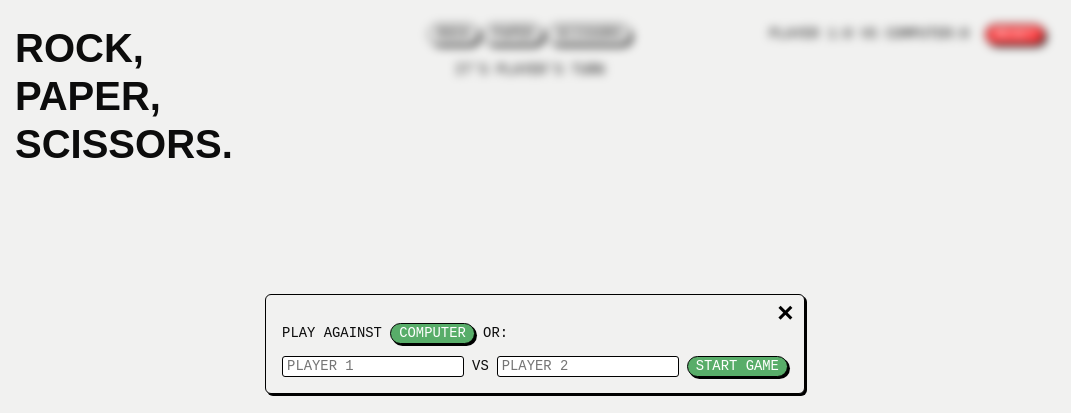
Test case: Game tests › Game scenario player vs player result in win
This screenshot has width=1071, height=413.
Type "Hej" into the field with placeholder "PLAYER 1" at (373, 367), box [282,356,464,377]
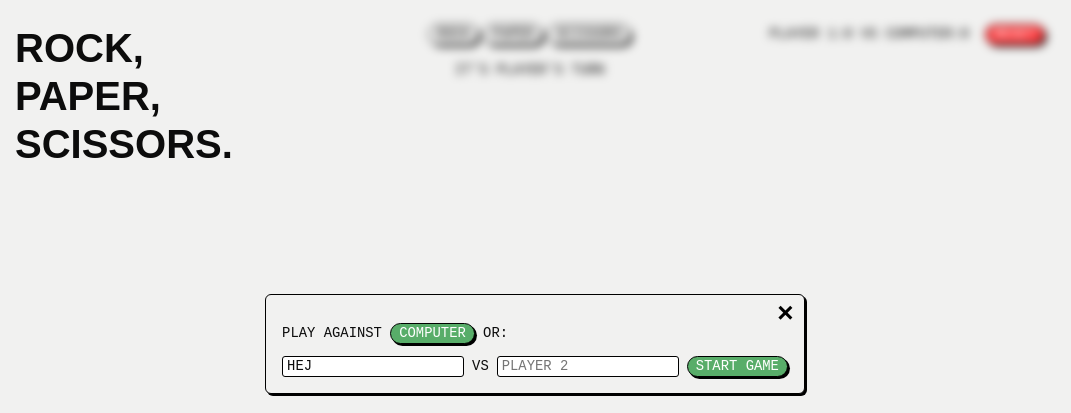
Type "Hej2" into the field with placeholder "PLAYER 2" at (588, 367), box [497,356,679,377]
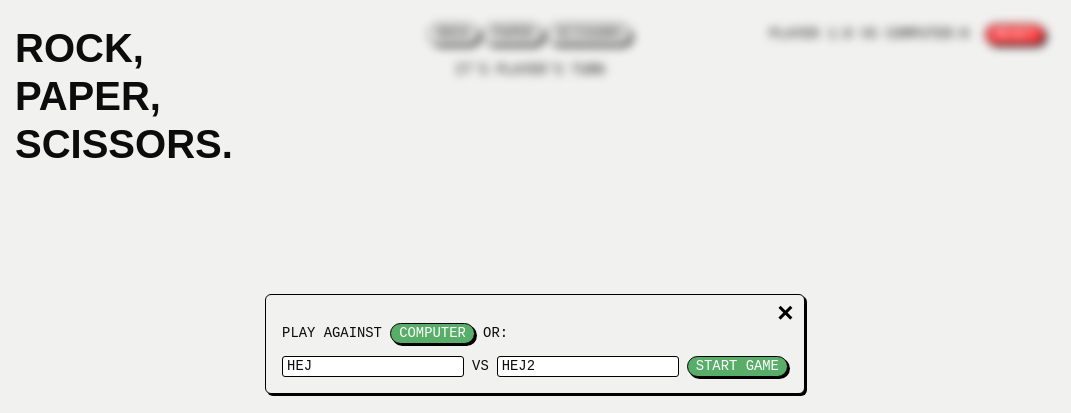
Click the button with test id "startBtn" at (738, 367), box [687,356,788,377]
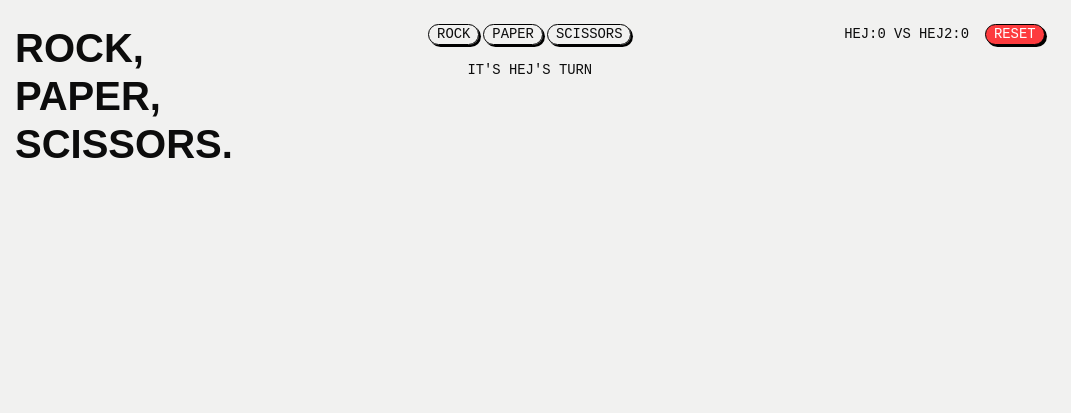
Click the button with test id "rockBtn" at (454, 35), box [428,24,479,45]
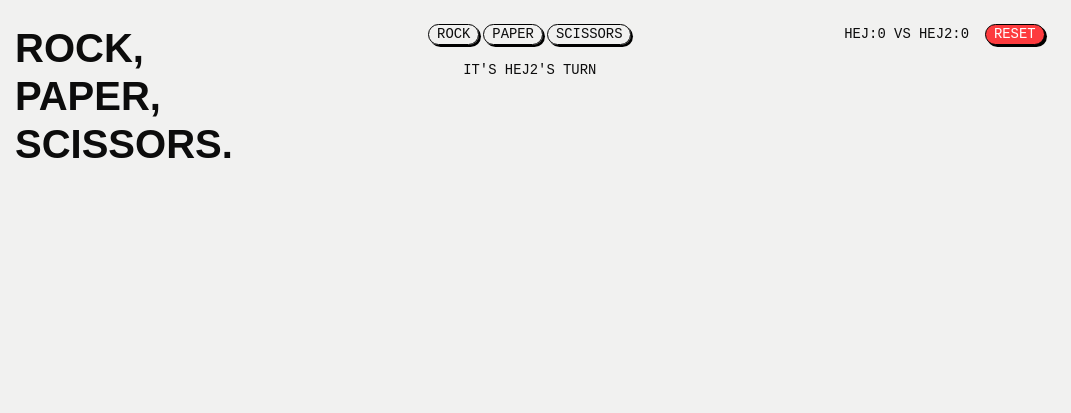
Click the button with test id "scissorsBtn" at (590, 35), box [547,24,632,45]
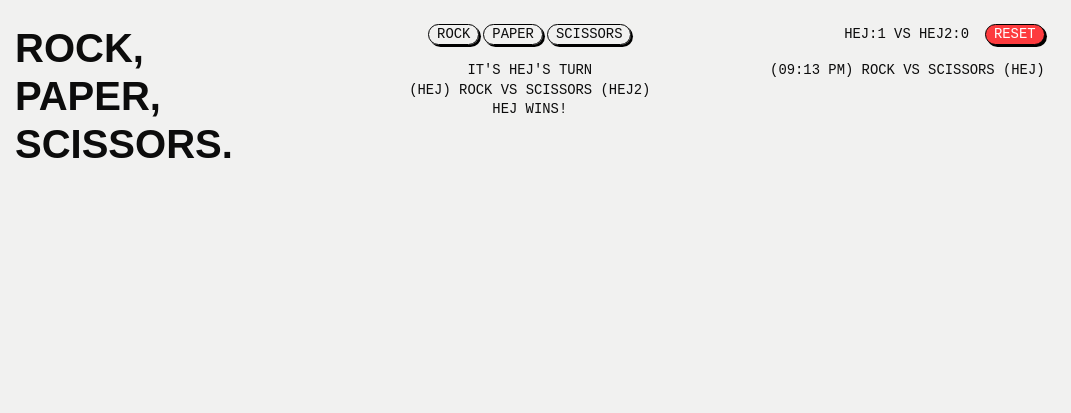
Expected: the text with test id "scoreboardCy" reads "Hej:1 vs Hej2:0", [844,25,969,44]
